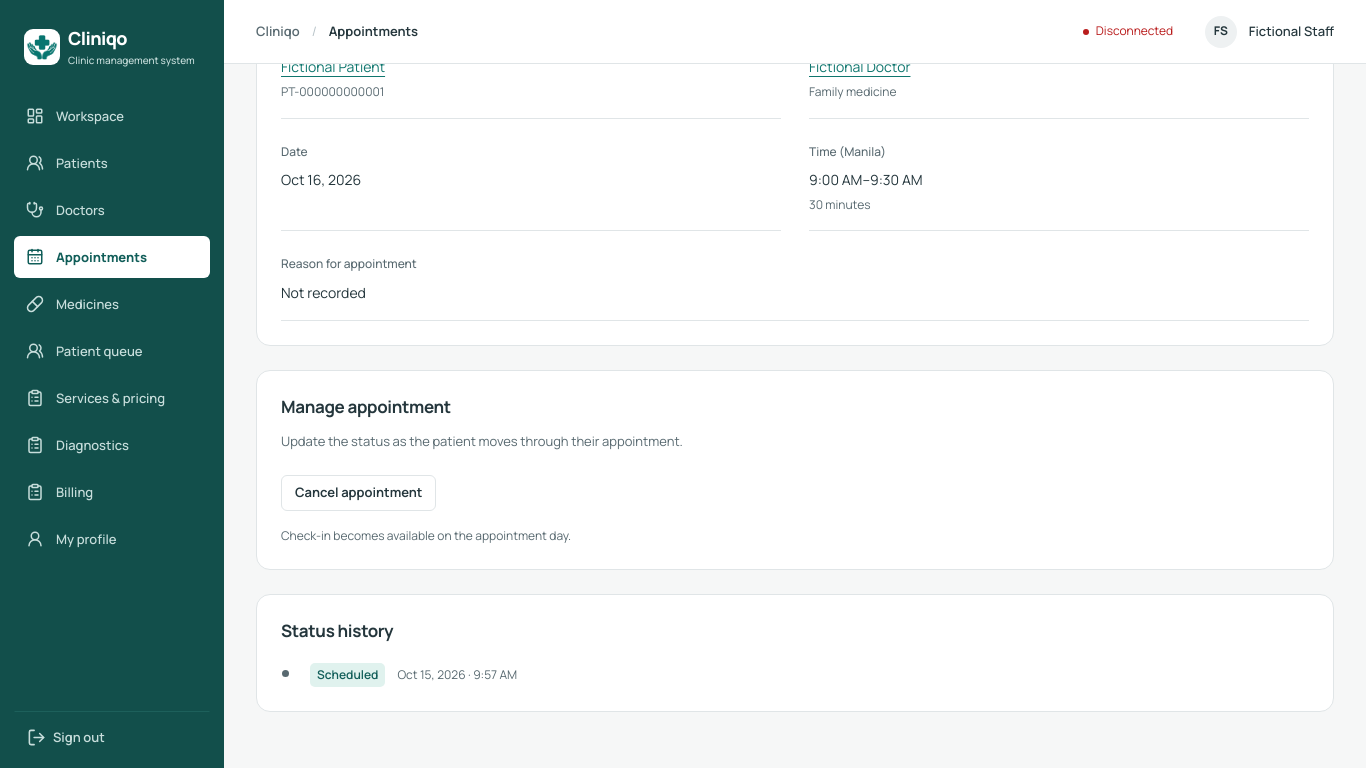
Test: appointment and dashboard components › confirms cancellation, saves its note, and replaces actions with preserved history
The width and height of the screenshot is (1366, 768).
(page scrolled)
Click the button "Cancel appointment" at (359, 493), box x1=281 y1=475 x2=436 y2=511
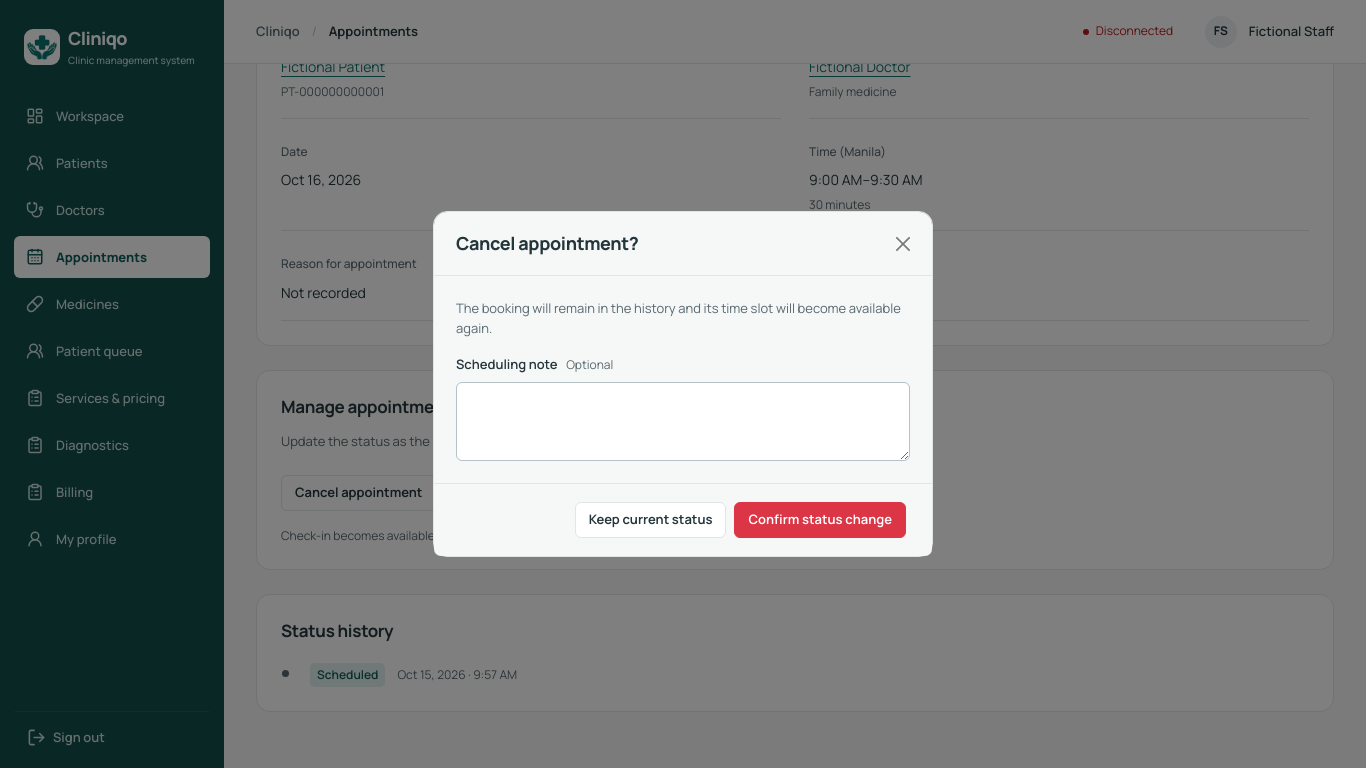
Check: the dialog "Cancel appointment?" is shown, box x1=433 y1=211 x2=933 y2=557
Type "Fictional scheduling note" into the text box labelled "Scheduling note Optional" at (683, 421), box x1=456 y1=382 x2=910 y2=461
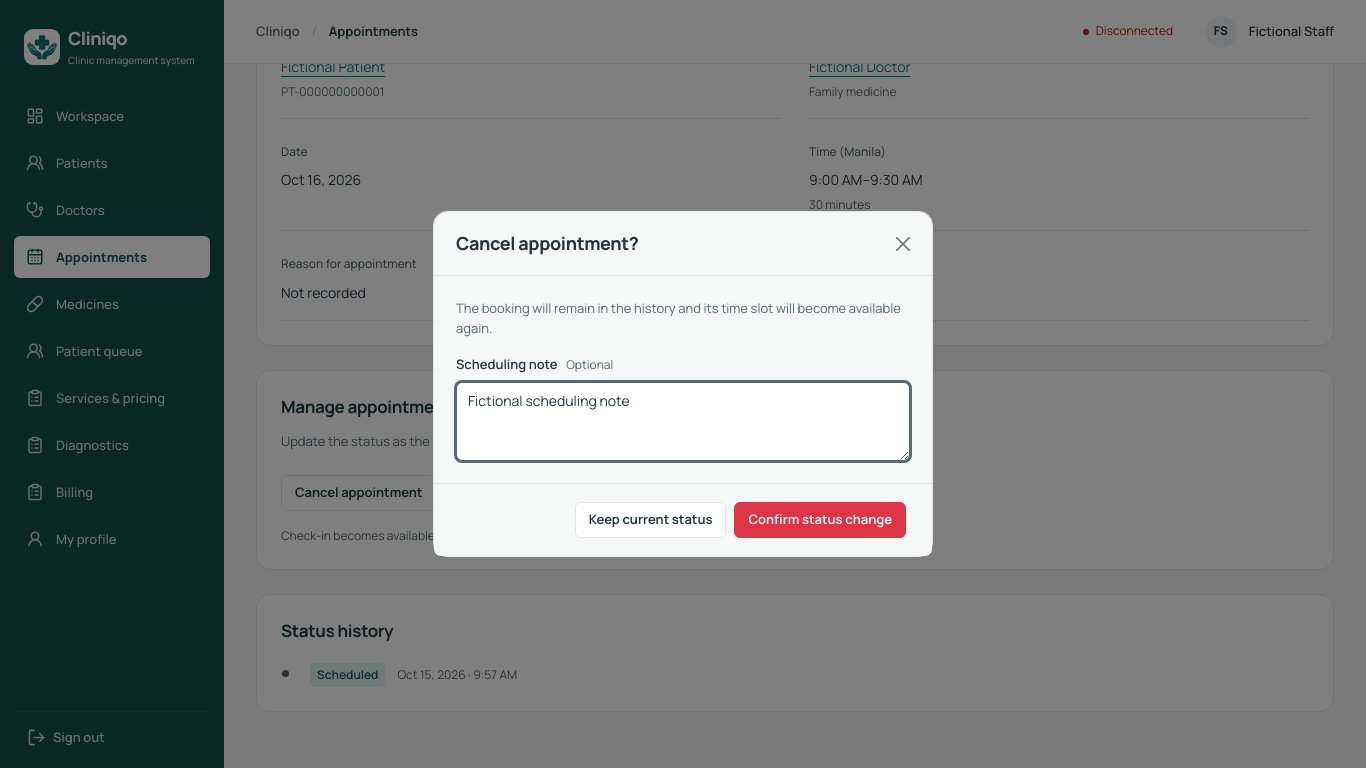
Click the button "Confirm status change" at (820, 520), box x1=734 y1=502 x2=906 y2=538
(page scrolled)
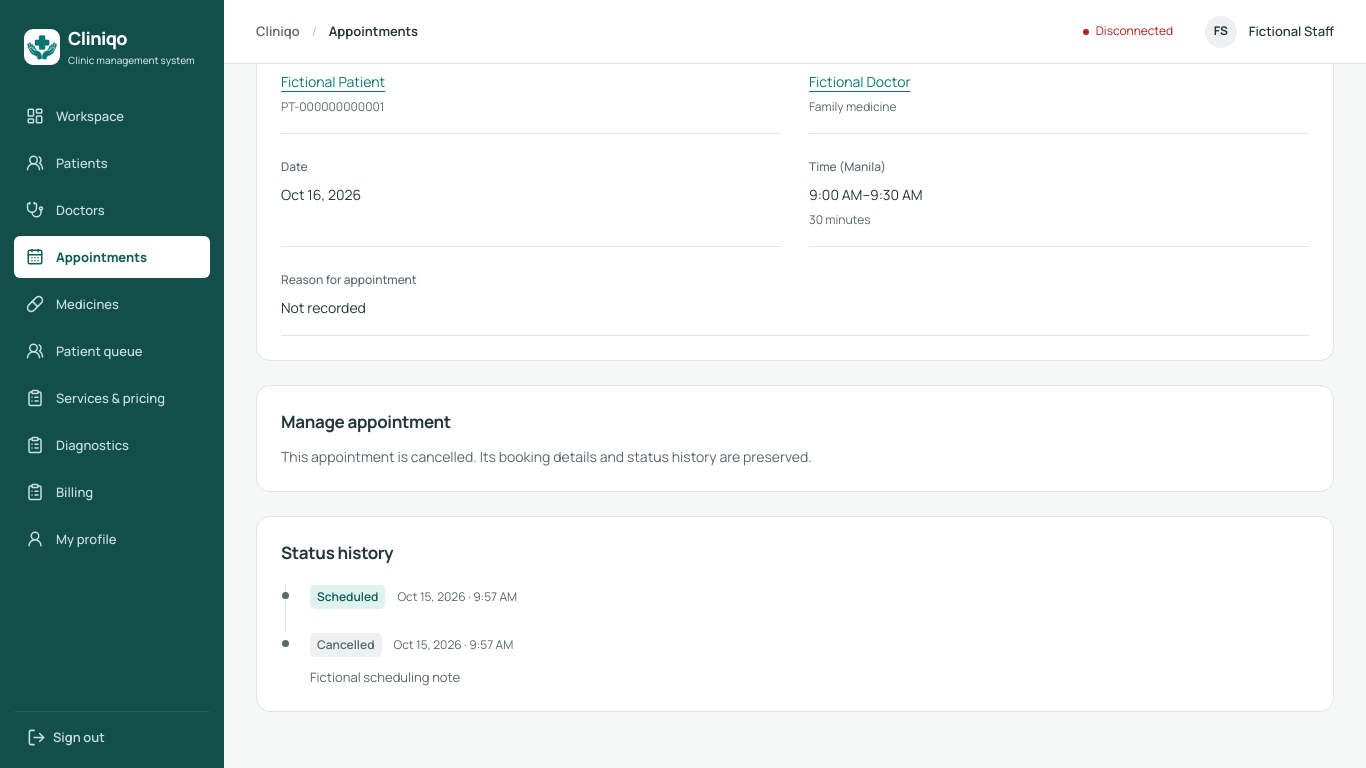
Check: the text "Fictional scheduling note" is shown, box x1=310 y1=668 x2=460 y2=686
